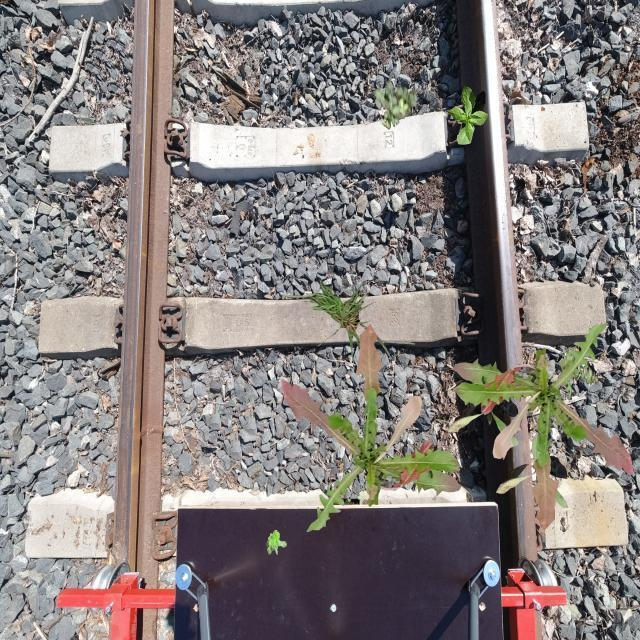Plant: (454, 323, 634, 532), (282, 324, 462, 532), (272, 278, 416, 368), (496, 433, 568, 508), (447, 372, 518, 446), (446, 85, 488, 145), (558, 346, 600, 400), (374, 80, 418, 130), (266, 530, 286, 555)
